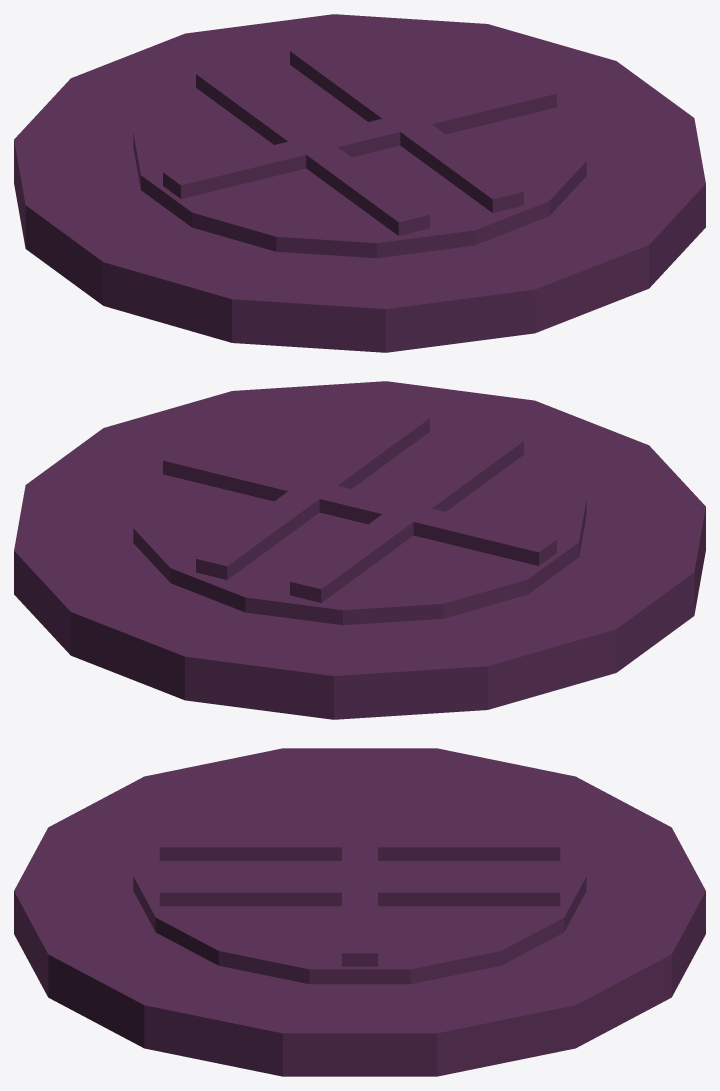
The model's file is manhole-cover.obj.
The picture shows the model from 3 angles, top to bottom: view 1: azimuth 30°, elevation 25°; view 2: azimuth 150°, elevation 25°; view 3: azimuth 270°, elevation 25°; orthographic projection.
Visible parts, largest first — view 1: faceted-manhole-cover, inner-ring, cover-groove-4, cover-groove-1, cover-groove-2, cover-groove-3, cover-groove-5, cover-groove-6; view 2: faceted-manhole-cover, inner-ring, cover-groove-4, cover-groove-1, cover-groove-6, cover-groove-5, cover-groove-3, cover-groove-2; view 3: faceted-manhole-cover, inner-ring, cover-groove-2, cover-groove-6, cover-groove-3, cover-groove-5, cover-groove-1, cover-groove-4.
Boxes of the visible parts, x1,y1,x2,y2 form: faceted-manhole-cover: [14, 14, 705, 352]; inner-ring: [133, 50, 586, 258]; cover-groove-4: [163, 126, 368, 198]; cover-groove-1: [351, 80, 556, 152]; cover-groove-2: [399, 113, 523, 212]; cover-groove-3: [305, 146, 429, 235]; cover-groove-5: [196, 66, 335, 153]; cover-groove-6: [290, 43, 412, 130]; faceted-manhole-cover: [14, 381, 705, 719]; inner-ring: [133, 417, 586, 625]; cover-groove-4: [351, 493, 556, 565]; cover-groove-1: [163, 447, 368, 519]; cover-groove-6: [196, 485, 320, 579]; cover-groove-5: [290, 513, 414, 602]; cover-groove-3: [384, 433, 523, 520]; cover-groove-2: [303, 410, 429, 497]; faceted-manhole-cover: [14, 748, 705, 1076]; inner-ring: [133, 782, 586, 984]; cover-groove-2: [159, 877, 374, 906]; cover-groove-6: [346, 877, 560, 906]; cover-groove-3: [159, 832, 374, 860]; cover-groove-5: [346, 832, 560, 860]; cover-groove-1: [342, 862, 377, 966]; cover-groove-4: [342, 771, 377, 862].
Bounding box in the file's own units: 1.13 × 0.1325 × 1.16.
